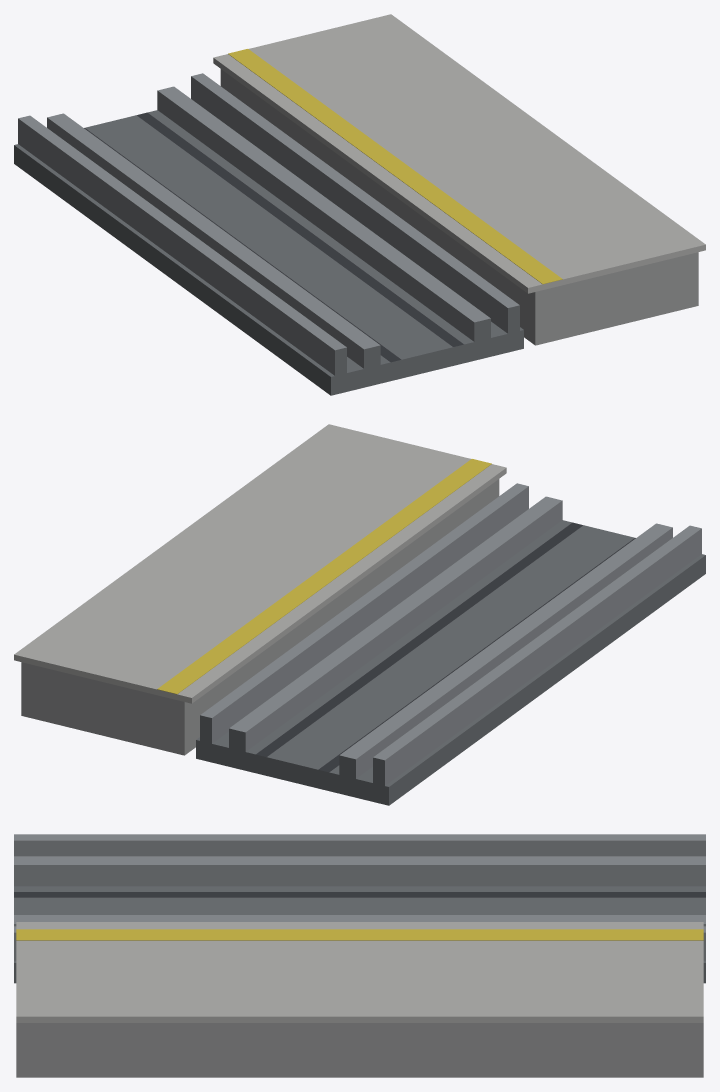
File: Track_AdvancePlatformRight.fbx
3 views of the same model, one above another, from view 1: azimuth 30°, elevation 25°; view 2: azimuth 150°, elevation 25°; view 3: azimuth 270°, elevation 25° (orthographic). The views are drawn at different scales.
Parts seen in each view (by area): view 1: Molded rail, Platform deck, Platform skirt, Platform edge line; view 2: Molded rail, Platform deck, Platform skirt, Platform edge line; view 3: Platform deck, Molded rail, Platform skirt, Platform edge line.
Boxes of the visible parts, x1,y1,x2,y2 form: Molded rail: (14,73,523,395); Platform deck: (213,14,705,293); Platform skirt: (220,69,698,345); Platform edge line: (228,49,562,284); Molded rail: (196,483,705,805); Platform deck: (14,424,506,703); Platform skirt: (21,479,499,755); Platform edge line: (157,459,491,694); Platform deck: (16,922,703,1022); Molded rail: (14,834,705,983); Platform skirt: (16,1023,703,1077); Platform edge line: (16,929,703,940).
Size of the model in its own units: 206 by 31.24 by 300.
